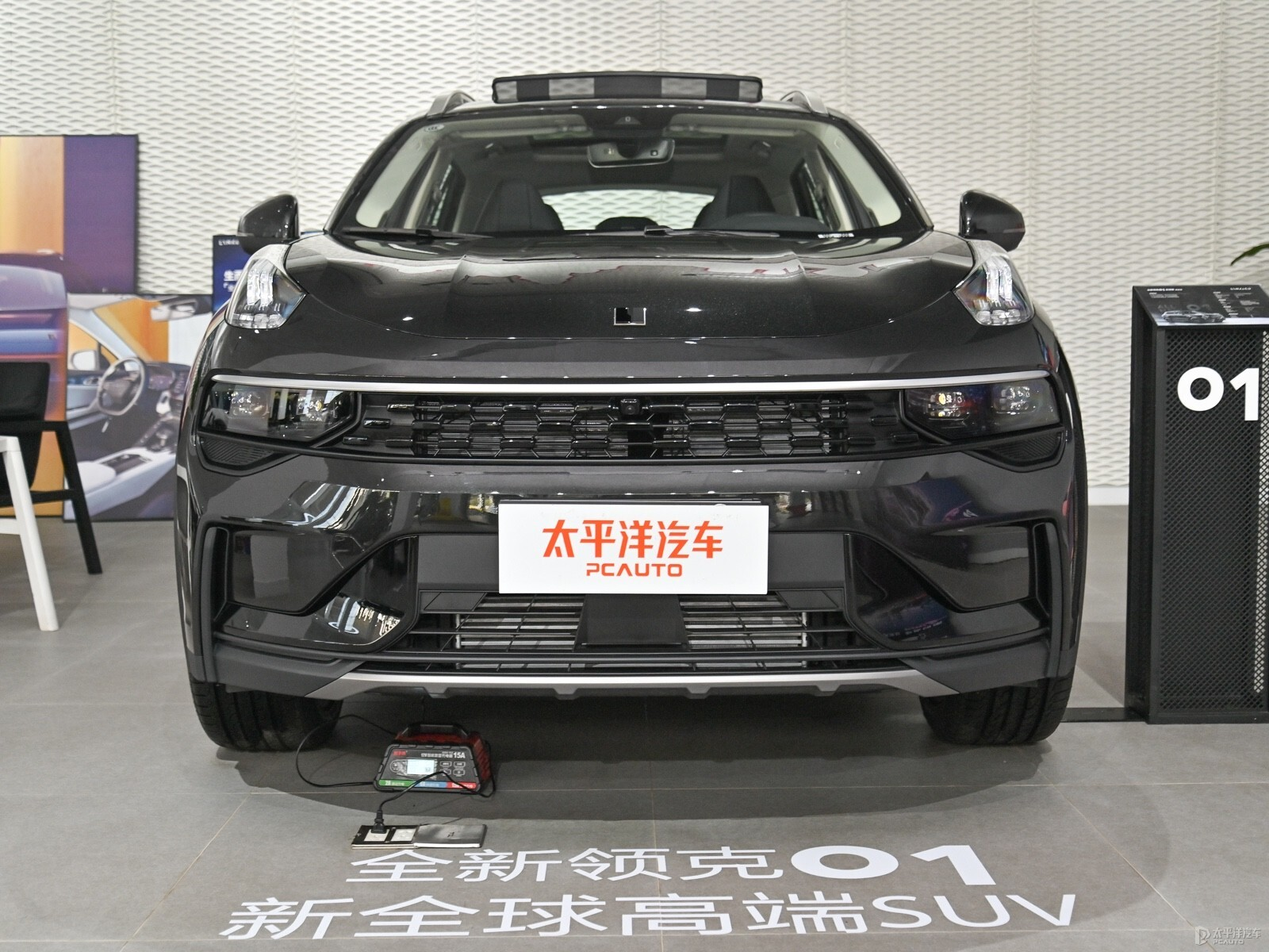LINK&CO: (615, 309, 644, 324)
